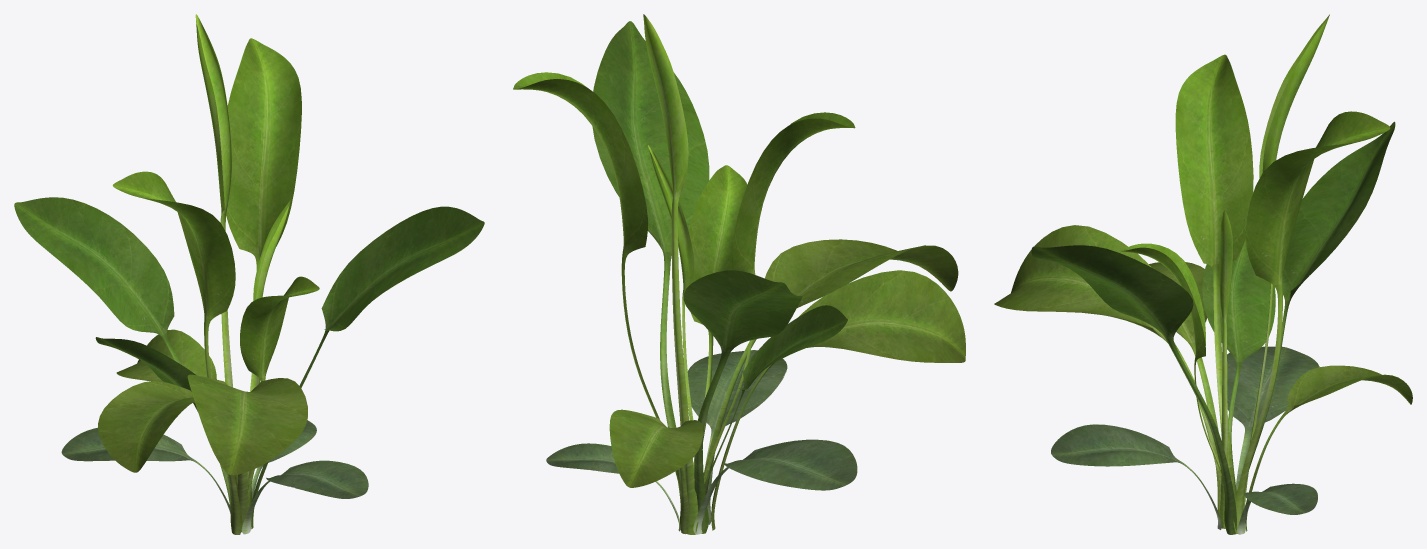
3 views of the same model, side by side, from view 1: azimuth 30°, elevation 25°; view 2: azimuth 150°, elevation 25°; view 3: azimuth 270°, elevation 25° (orthographic). The views are drawn at different scales.
Parts seen in each view (by area): view 1: plant; view 2: plant; view 3: plant.
Part boxes in pixels (<box>): plant: <box>14,14,484,534</box>; plant: <box>513,14,965,534</box>; plant: <box>994,14,1412,534</box>.
Size of the model in its own units: 4.88 by 6.78 by 4.99.
Materials: 1 (1 with a texture image).
